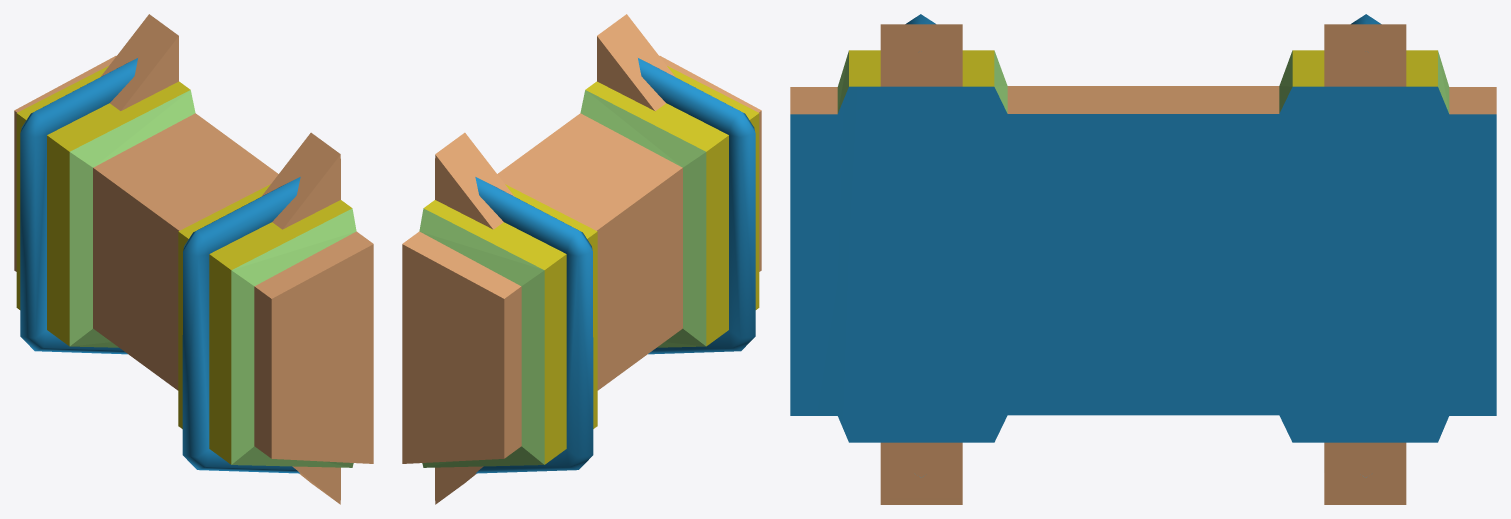
The model's file is junction_box_lg.fbx.
3 renders of one model, left to right at view 1: azimuth 30°, elevation 25°; view 2: azimuth 150°, elevation 25°; view 3: azimuth 270°, elevation 25°, orthographic. The views are drawn at different scales.
Visible parts, largest first — view 1: L6 base core; view 2: L6 base core; view 3: L6 base core.
Part boxes in pixels (x1=…): L6 base core: x1=14, y1=14, x2=373, y2=504; L6 base core: x1=402, y1=14, x2=761, y2=504; L6 base core: x1=790, y1=14, x2=1496, y2=504.
Size of the model in its own units: 11577 by 27019 by 35961.
